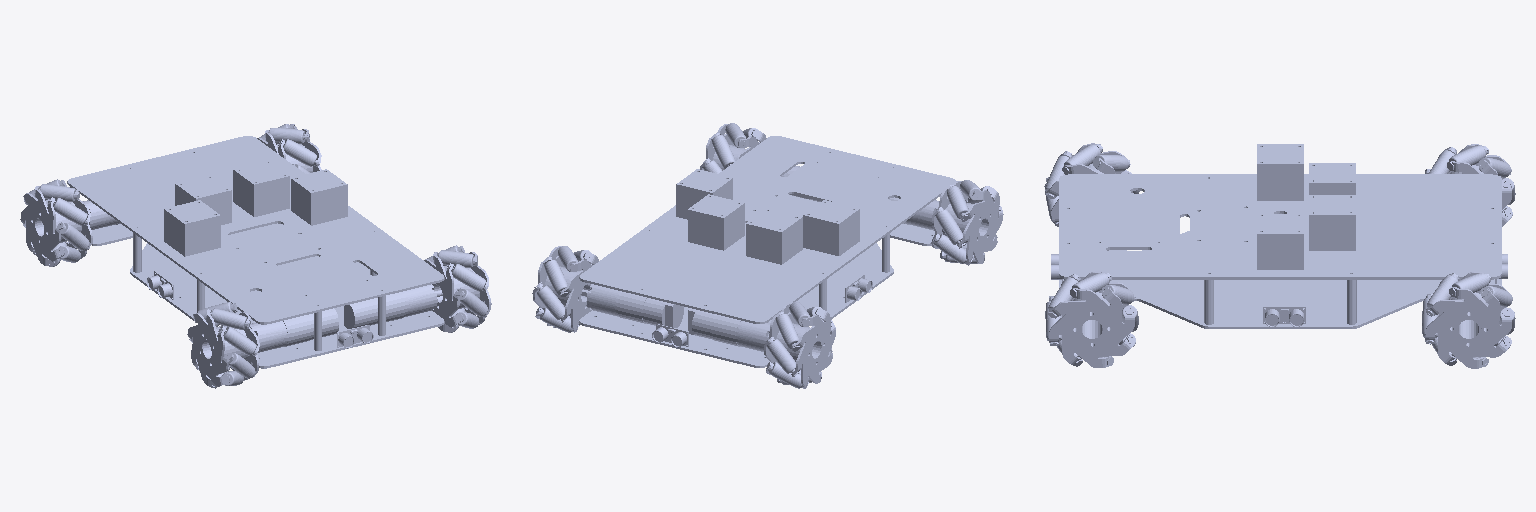
robot.urdf — Assemblyfix2:
<?xml version="1.0" encoding="utf-8"?>
<!-- This URDF was automatically created by SolidWorks to URDF Exporter! Originally created by Stephen Brawner (brawner@gmail.com) 
     Commit Version: 1.6.0-4-g7f85cfe  Build Version: 1.6.7995.38578
     For more information, please see http://wiki.ros.org/sw_urdf_exporter -->
<robot
  name="Assemblyfix2">
  <link
    name="base_link">
    <inertial>
      <origin
        xyz="4.2417E-05 0.014216 -0.0067866"
        rpy="0 0 0" />
      <mass
        value="6" />
      <inertia
        ixx="0.012704"
        ixy="2.2802E-18"
        ixz="5.5823E-06"
        iyy="0.016608"
        iyz="-3.2535E-15"
        izz="0.0041213" />
    </inertial>
    <visual>
      <origin
        xyz="0 0 0"
        rpy="0 0 0" />
      <geometry>
        <mesh
          filename="package://Assemblyfix2/meshes/base_link.STL" />
      </geometry>
      <material
        name="">
        <color
          rgba="0.79216 0.81961 0.93333 1" />
      </material>
    </visual>
    <collision>
      <origin
        xyz="0 0 0"
        rpy="0 0 0" />
      <geometry>
        <mesh
          filename="package://Assemblyfix2/meshes/base_link.STL" />
      </geometry>
    </collision>
  </link>
  <link
    name="rodakananbawah_Link">
    <inertial>
      <origin
        xyz="-7.08E-08 -7.5112E-08 -0.023421"
        rpy="0 0 0" />
      <mass
        value="0.1728" />
      <inertia
        ixx="4.6952E-05"
        ixy="8.8421E-18"
        ixz="-6.2487E-18"
        iyy="4.6952E-05"
        iyz="-6.7545E-18"
        izz="6.4174E-05" />
    </inertial>
    <visual>
      <origin
        xyz="0 0 0"
        rpy="0 0 0" />
      <geometry>
        <mesh
          filename="package://Assemblyfix2/meshes/rodakananbawah_Link.STL" />
      </geometry>
      <material
        name="">
        <color
          rgba="0.79216 0.81961 0.93333 1" />
      </material>
    </visual>
    <collision>
      <origin
        xyz="0 0 0"
        rpy="0 0 0" />
      <geometry>
        <mesh
          filename="package://Assemblyfix2/meshes/rodakananbawah_Link.STL" />
      </geometry>
    </collision>
  </link>
  <joint
    name="joint_kanan_bawah"
    type="continuous">
    <origin
      xyz="0.18345 -0.19987 -0.0044227"
      rpy="1.5708 0 1.5708" />
    <parent
      link="base_link" />
    <child
      link="rodakananbawah_Link" />
    <axis
      xyz="0 0 -1" />
  </joint>
  <link
    name="rodakanan_atas_Link">
    <inertial>
      <origin
        xyz="-7.08E-08 7.5112E-08 -0.023829"
        rpy="0 0 0" />
      <mass
        value="0.1728" />
      <inertia
        ixx="4.6952E-05"
        ixy="-8.8405E-18"
        ixz="6.1965E-18"
        iyy="4.6952E-05"
        iyz="-6.7669E-18"
        izz="6.4174E-05" />
    </inertial>
    <visual>
      <origin
        xyz="0 0 0"
        rpy="0 0 0" />
      <geometry>
        <mesh
          filename="package://Assemblyfix2/meshes/rodakanan_atas_Link.STL" />
      </geometry>
      <material
        name="">
        <color
          rgba="0.79216 0.81961 0.93333 1" />
      </material>
    </visual>
    <collision>
      <origin
        xyz="0 0 0"
        rpy="0 0 0" />
      <geometry>
        <mesh
          filename="package://Assemblyfix2/meshes/rodakanan_atas_Link.STL" />
      </geometry>
    </collision>
  </link>
  <joint
    name="joint_kanan_atas"
    type="continuous">
    <origin
      xyz="0.4 0 0"
      rpy="0 0 0" />
    <parent
      link="rodakananbawah_Link" />
    <child
      link="rodakanan_atas_Link" />
    <axis
      xyz="0 0 -1" />
  </joint>
  <link
    name="roda_kiri_atas_Link">
    <inertial>
      <origin
        xyz="7.5112E-08 -7.08E-08 0.023829"
        rpy="0 0 0" />
      <mass
        value="0.1728" />
      <inertia
        ixx="4.6952E-05"
        ixy="-8.839E-18"
        ixz="6.7911E-18"
        iyy="4.6952E-05"
        iyz="-6.2199E-18"
        izz="6.4174E-05" />
    </inertial>
    <visual>
      <origin
        xyz="0 0 0"
        rpy="0 0 0" />
      <geometry>
        <mesh
          filename="package://Assemblyfix2/meshes/roda_kiri_atas_Link.STL" />
      </geometry>
      <material
        name="">
        <color
          rgba="0.79216 0.81961 0.93333 1" />
      </material>
    </visual>
    <collision>
      <origin
        xyz="0 0 0"
        rpy="0 0 0" />
      <geometry>
        <mesh
          filename="package://Assemblyfix2/meshes/roda_kiri_atas_Link.STL" />
      </geometry>
    </collision>
  </link>
  <joint
    name="joint_roda_kiriatas"
    type="continuous">
    <origin
      xyz="0 0 -0.3665"
      rpy="0 0 0" />
    <parent
      link="rodakanan_atas_Link" />
    <child
      link="roda_kiri_atas_Link" />
    <axis
      xyz="0 0 1" />
  </joint>
  <link
    name="rodakiri_bawah_Link">
    <inertial>
      <origin
        xyz="2.5511E-08 -1.0002E-07 0.023829"
        rpy="0 0 0" />
      <mass
        value="0.1728" />
      <inertia
        ixx="4.6952E-05"
        ixy="-2.0434E-17"
        ixz="2.3817E-18"
        iyy="4.6952E-05"
        iyz="-8.9014E-18"
        izz="6.4174E-05" />
    </inertial>
    <visual>
      <origin
        xyz="0 0 0"
        rpy="0 0 0" />
      <geometry>
        <mesh
          filename="package://Assemblyfix2/meshes/rodakiri_bawah_Link.STL" />
      </geometry>
      <material
        name="">
        <color
          rgba="0.79216 0.81961 0.93333 1" />
      </material>
    </visual>
    <collision>
      <origin
        xyz="0 0 0"
        rpy="0 0 0" />
      <geometry>
        <mesh
          filename="package://Assemblyfix2/meshes/rodakiri_bawah_Link.STL" />
      </geometry>
    </collision>
  </link>
  <joint
    name="joint_rodakiri_bawah"
    type="continuous">
    <origin
      xyz="-0.4 0 0"
      rpy="0 0 0" />
    <parent
      link="roda_kiri_atas_Link" />
    <child
      link="rodakiri_bawah_Link" />
    <axis
      xyz="0 0 1" />
  </joint>
</robot>

--- Facts derived from the render (not from the file) ---
3 views of the same robot in one strip: view 1: azimuth 30°, elevation 25°; view 2: azimuth 150°, elevation 25°; view 3: azimuth 270°, elevation 25° (orthographic).
Model Assemblyfix2 with 5 links and 4 joints (4 continuous), rooted at base_link, posed every joint at zero.
Links seen in each view (by area): view 1: base_link, roda_kiri_atas_Link, rodakiri_bawah_Link, rodakananbawah_Link, rodakanan_atas_Link; view 2: base_link, rodakiri_bawah_Link, roda_kiri_atas_Link, rodakanan_atas_Link, rodakananbawah_Link; view 3: base_link, rodakanan_atas_Link, rodakananbawah_Link, rodakiri_bawah_Link, roda_kiri_atas_Link.
Boxes of the visible links, left/top/right/bottom form: base_link: left=67, top=136, right=444, bottom=368; roda_kiri_atas_Link: left=20, top=179, right=92, bottom=266; rodakiri_bawah_Link: left=187, top=302, right=259, bottom=388; rodakananbawah_Link: left=424, top=245, right=491, bottom=332; rodakanan_atas_Link: left=257, top=124, right=321, bottom=173; base_link: left=579, top=136, right=955, bottom=367; rodakiri_bawah_Link: left=931, top=180, right=1003, bottom=265; roda_kiri_atas_Link: left=764, top=302, right=835, bottom=388; rodakanan_atas_Link: left=532, top=246, right=598, bottom=332; rodakananbawah_Link: left=700, top=123, right=766, bottom=173; base_link: left=1051, top=144, right=1507, bottom=328; rodakanan_atas_Link: left=1422, top=272, right=1515, bottom=368; rodakananbawah_Link: left=1045, top=271, right=1138, bottom=367; rodakiri_bawah_Link: left=1044, top=143, right=1139, bottom=226; roda_kiri_atas_Link: left=1425, top=144, right=1515, bottom=226.
Bounding box of the posed robot: 0.3665 × 0.5002 × 0.1296 m (x, y, z).
Meshes: 5 distinct files referenced, 5 mesh visuals loaded (5 binary STL).
